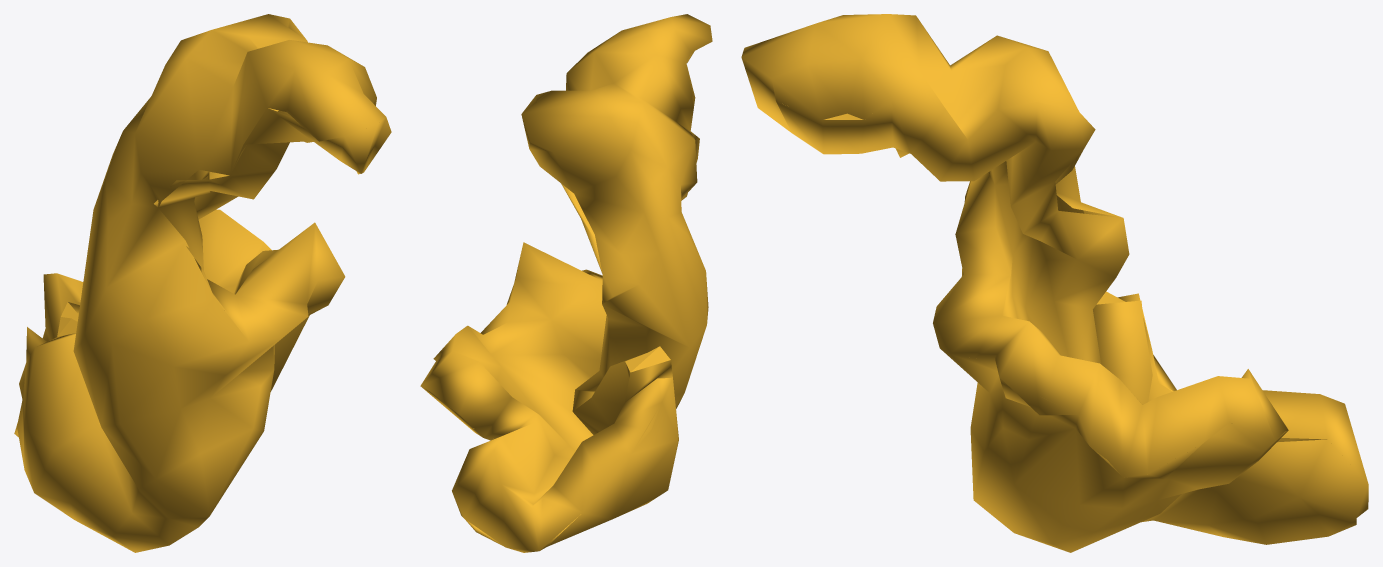
Rendered from nervoso-opercular-part-of-inferior-frontal-gyrus-r.glb.
3 renders of one model, left to right at view 1: azimuth 30°, elevation 25°; view 2: azimuth 150°, elevation 25°; view 3: azimuth 270°, elevation 25°, orthographic. The views are drawn at different scales.
Parts seen in each view (by area): view 1: Opercular part of inferior frontal gyrus.r; view 2: Opercular part of inferior frontal gyrus.r; view 3: Opercular part of inferior frontal gyrus.r.
Boxes of the visible parts, box(x1,y1,x2,y2) form: Opercular part of inferior frontal gyrus.r: box(14, 14, 391, 552); Opercular part of inferior frontal gyrus.r: box(420, 14, 712, 552); Opercular part of inferior frontal gyrus.r: box(741, 14, 1368, 552).
Bounding box in the file's own units: 0.0226 × 0.0393 × 0.0398.
